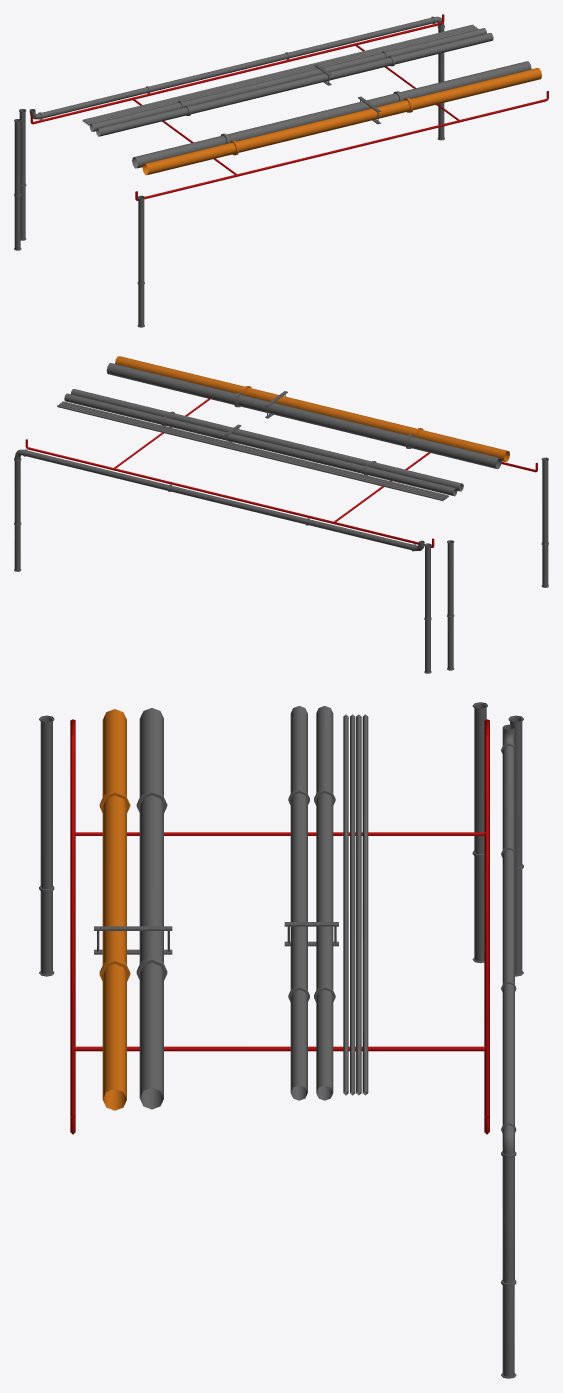
Rendered from SM_H_Building_Tide_Bathhouse_03B_ATLAS.fbx.
3 views of the same model, one above another, from view 1: azimuth 30°, elevation 25°; view 2: azimuth 150°, elevation 25°; view 3: azimuth 270°, elevation 25° (orthographic). The views are drawn at different scales.
Visible parts, largest first — view 1: SM_H_Building_Tide_Bathhouse_03B_ATLAS; view 2: SM_H_Building_Tide_Bathhouse_03B_ATLAS; view 3: SM_H_Building_Tide_Bathhouse_03B_ATLAS.
Boxes of the visible parts, x1,y1,x2,y2 form: SM_H_Building_Tide_Bathhouse_03B_ATLAS: (14,14,548,327); SM_H_Building_Tide_Bathhouse_03B_ATLAS: (14,356,548,673); SM_H_Building_Tide_Bathhouse_03B_ATLAS: (39,702,523,1378).
Size of the model in its own units: 1829 by 888 by 587.
